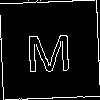M: (24, 25, 72, 72)
